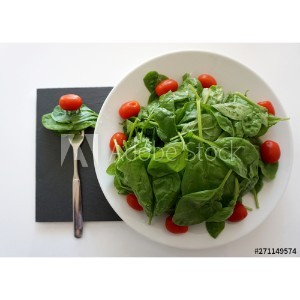spinach_brain food: (148, 104, 241, 201), (42, 99, 95, 137)
